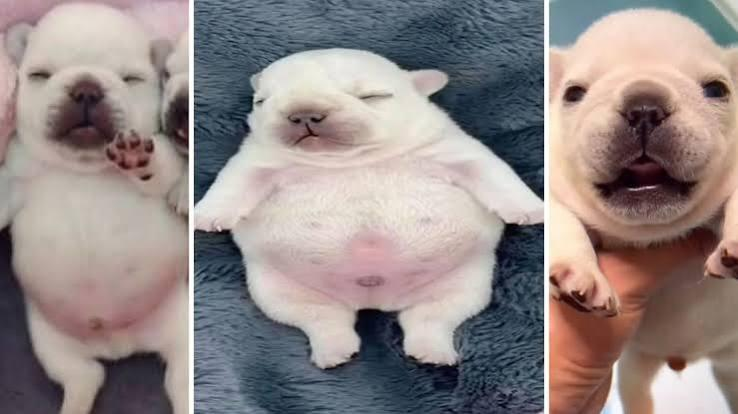puppy-dog: (194, 48, 544, 370), (548, 6, 738, 414), (0, 2, 188, 414)
